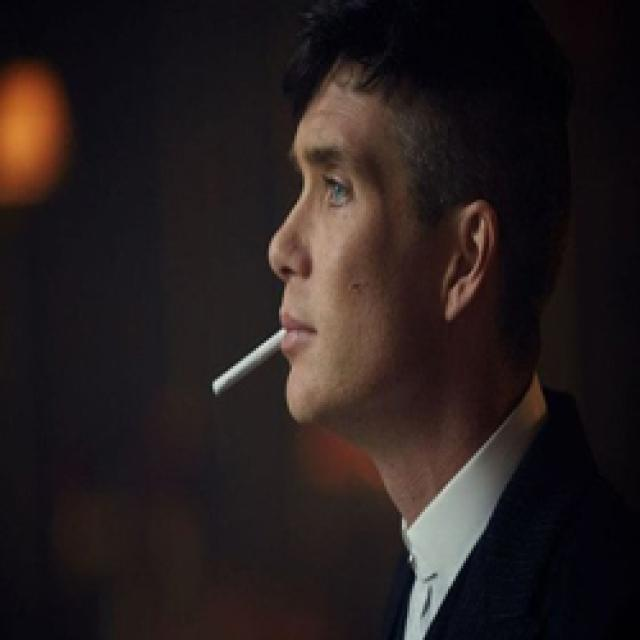Smooking: (180, 313, 290, 406)
